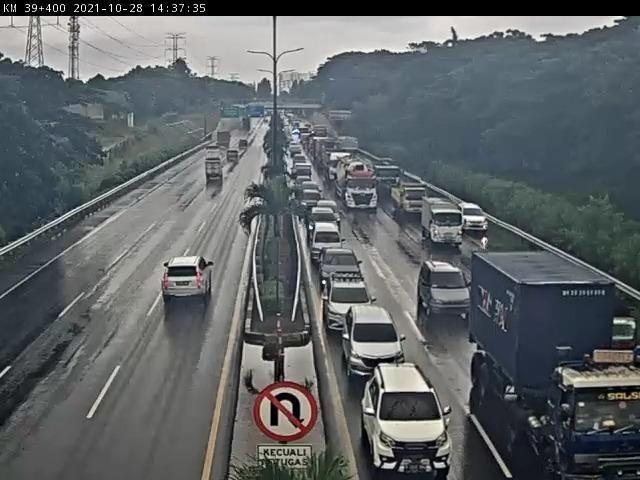car: (367, 355, 460, 473), (343, 301, 407, 377), (167, 246, 216, 313), (422, 255, 470, 321), (326, 275, 373, 336), (427, 198, 467, 253), (324, 244, 363, 288), (311, 218, 340, 266), (461, 199, 489, 240), (394, 183, 428, 215), (306, 208, 341, 224), (304, 190, 322, 213), (318, 199, 337, 220), (304, 180, 323, 200)
truck: (346, 163, 389, 216), (204, 158, 227, 185)
